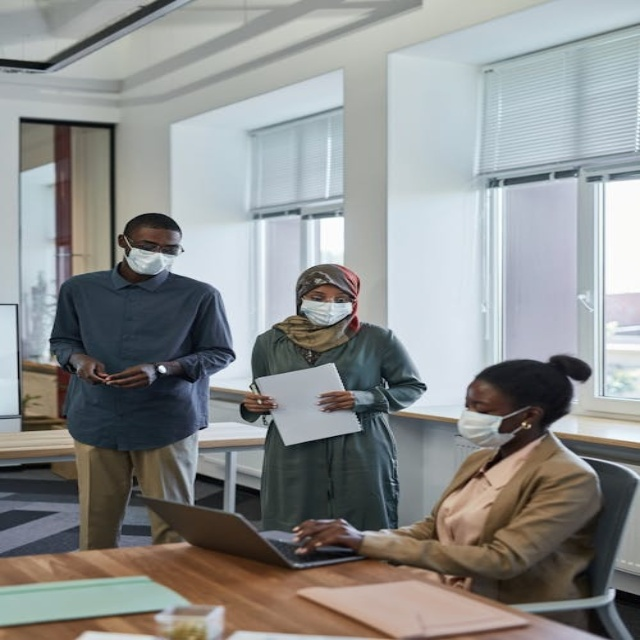Gafas: (124, 236, 183, 256)
Mascara: (456, 407, 532, 447), (123, 241, 178, 275), (299, 299, 355, 326)
Sin_gafas: (453, 393, 504, 413), (302, 296, 354, 304)
Sin_guantes: (291, 518, 362, 552), (99, 359, 167, 387), (315, 389, 362, 413), (242, 390, 277, 414), (71, 356, 100, 379)
